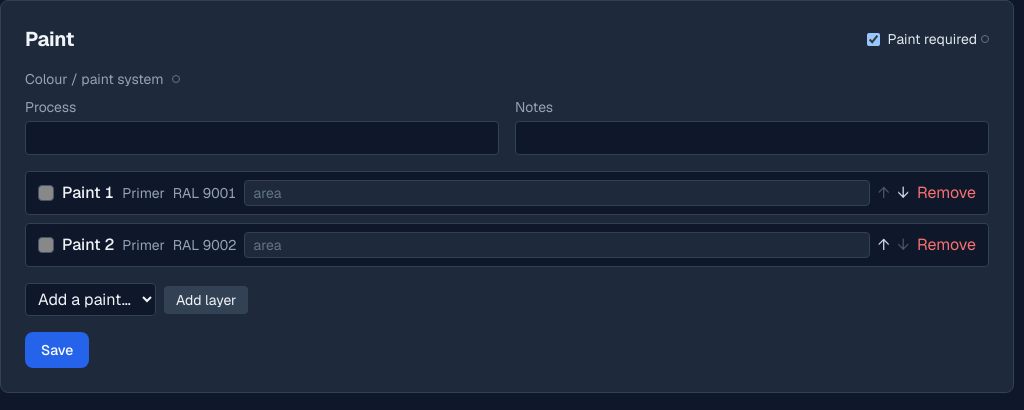
Scenario: PartPaintCard › removes a layer
This screenshot has width=1024, height=410.
Expected: the element with test id "paint-layer-1" is shown, [25,223,989,267]
Click the button with test id "remove-layer-0" at [946, 193], box [917,181,976,205]
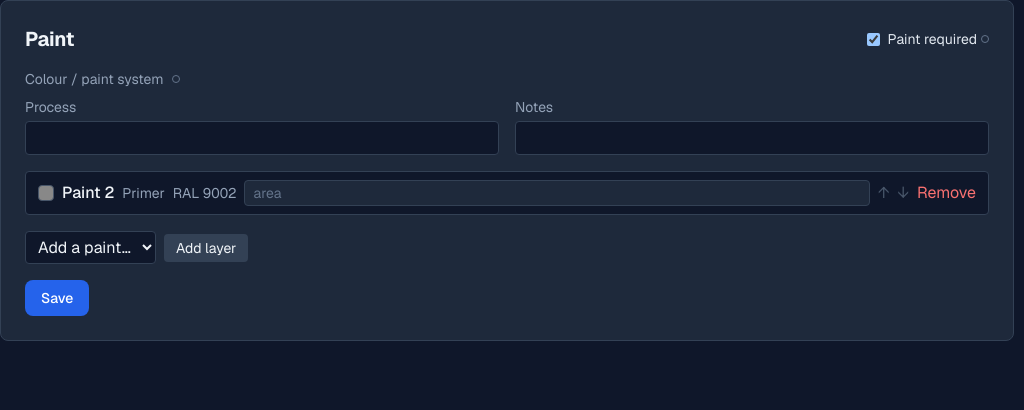
Expected: the element with test id "paint-layer-0" shows "Paint 2", [62,182,114,203]
Expected: the element with test id "paint-layer-1" is gone
